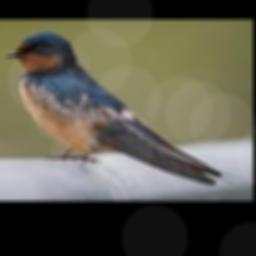Swallow: (7, 30, 235, 185)
